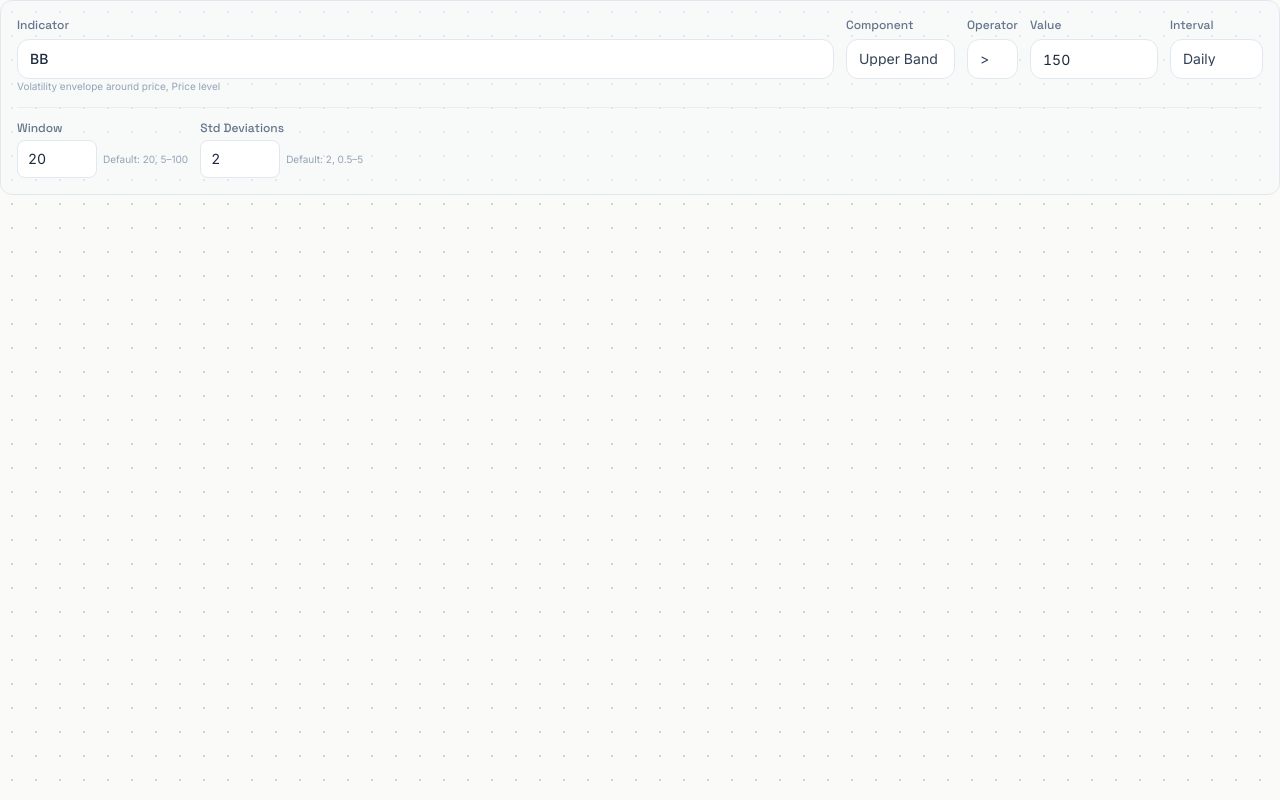
ConditionRow input validation › value input shows error when emptied
Clear the field labelled "Value" at (1094, 59), box [1030, 39, 1158, 79]
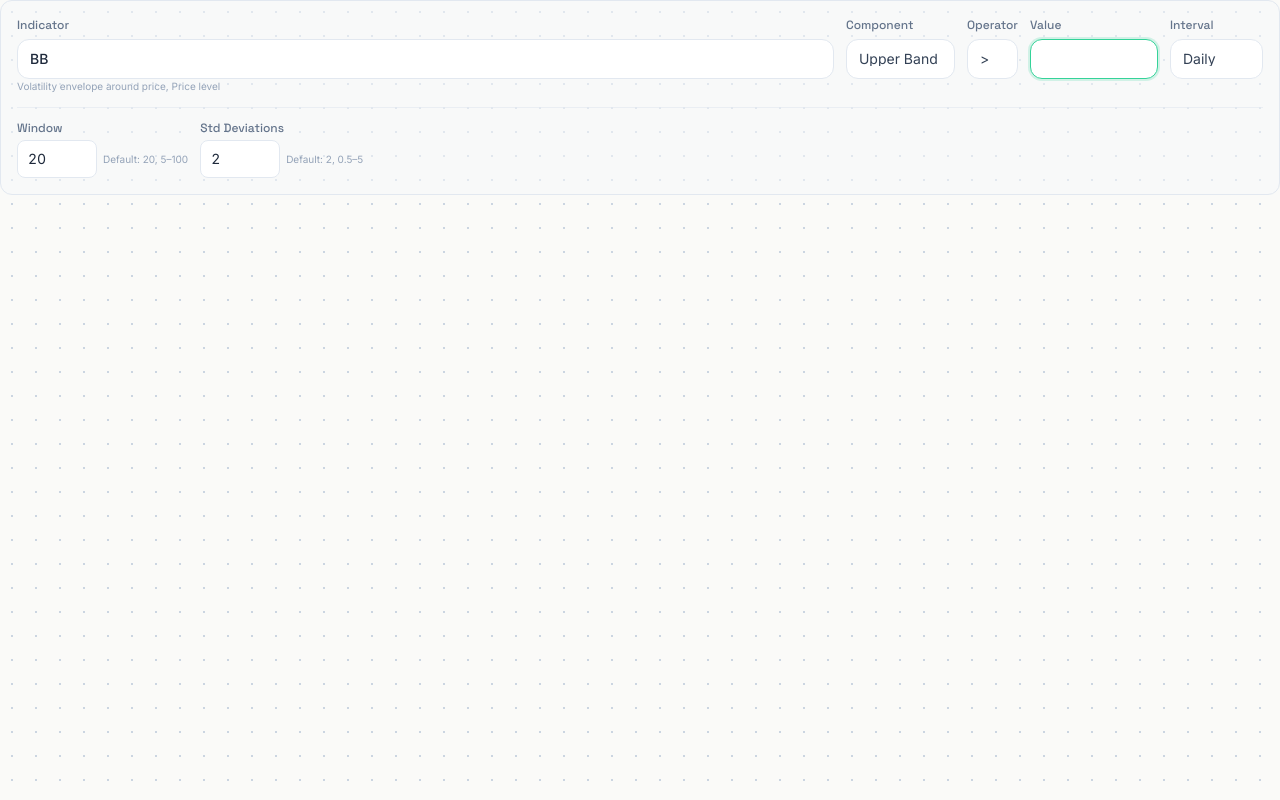
Leave the field labelled "Value", box [1030, 39, 1158, 79]
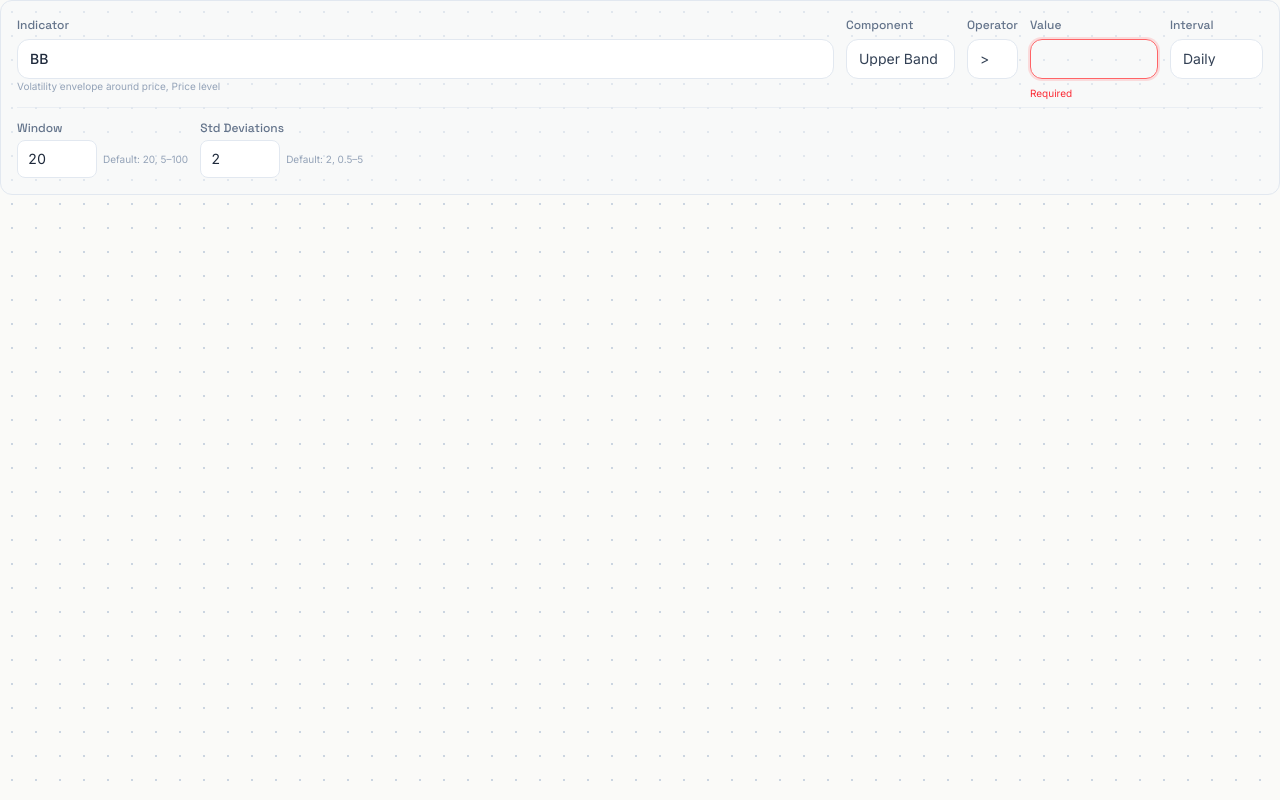
expect the text "Required" is shown: met, box [1030, 87, 1072, 99]
